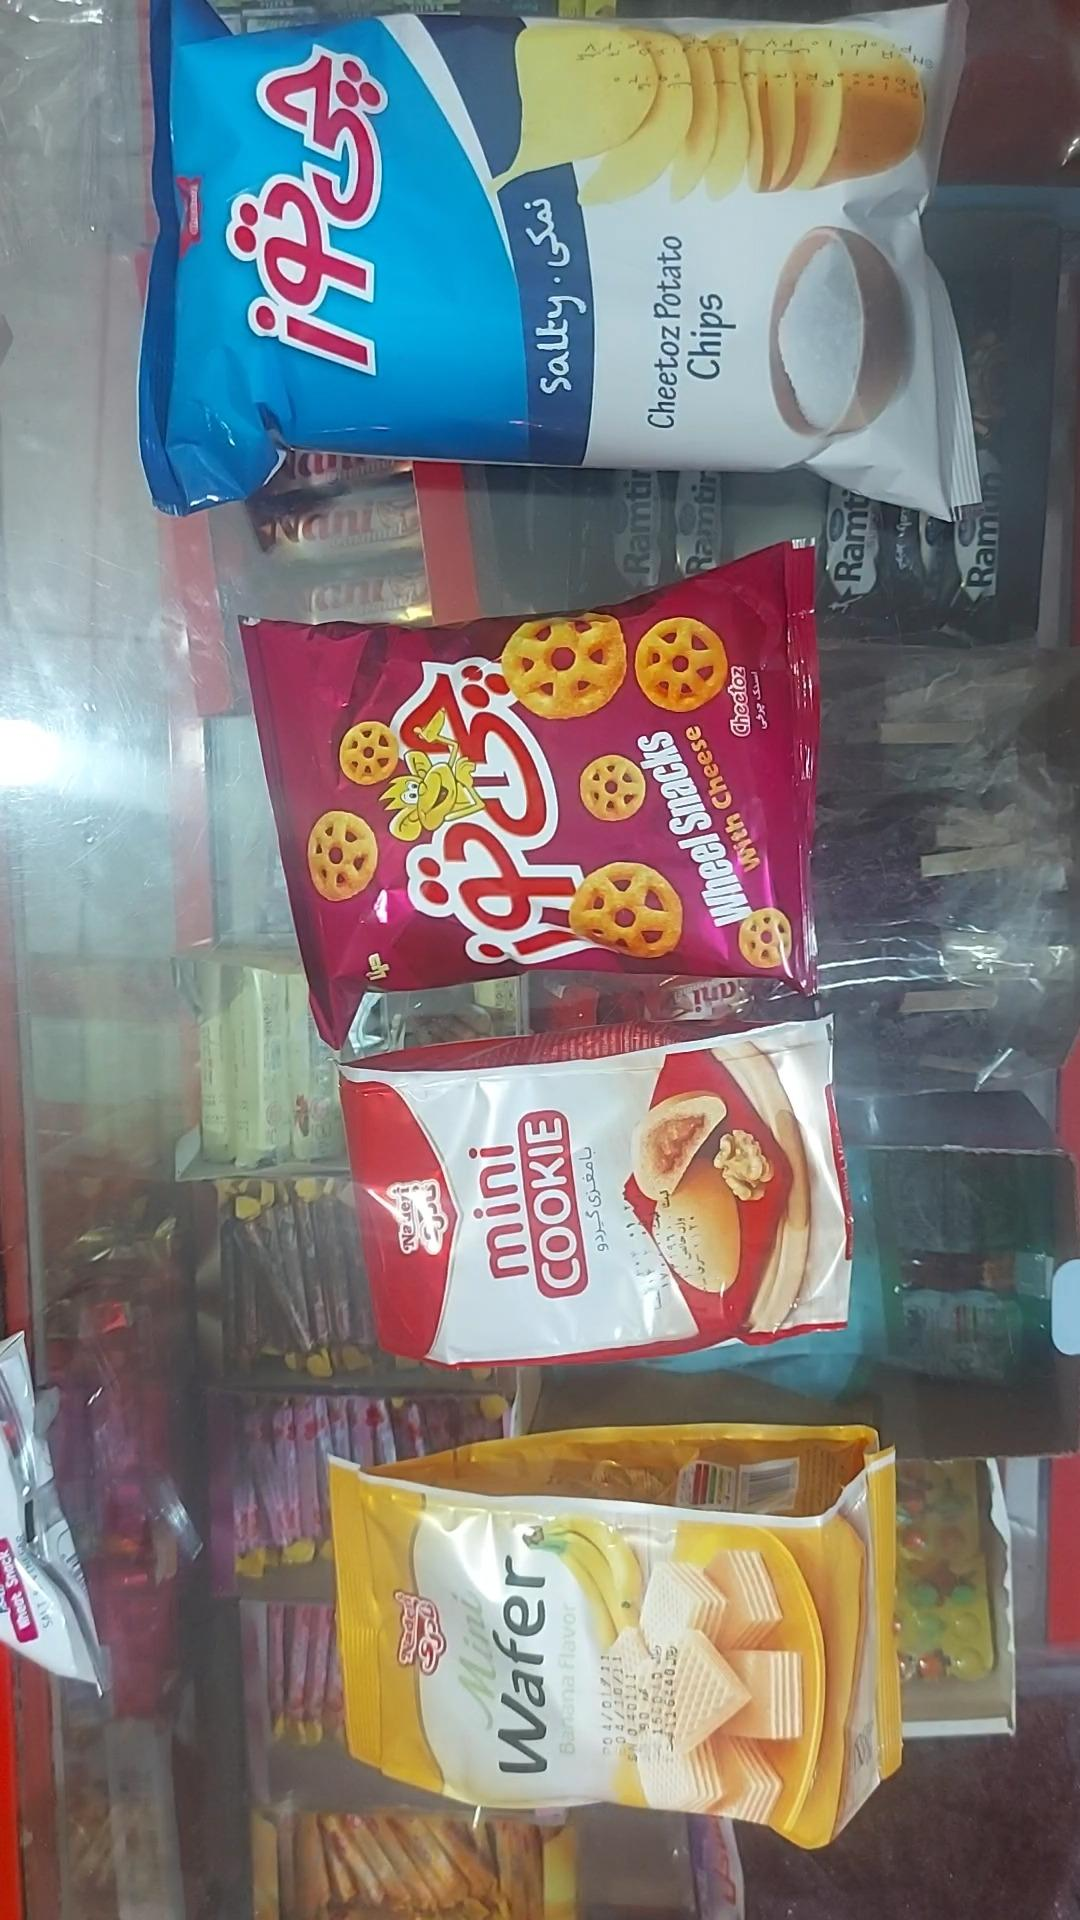Cheetoz salty chips: (137, 0, 982, 522)
Cheetoz wheelsnack: (237, 541, 822, 1054)
Naderi mini cookie: (336, 1017, 855, 1371)
Naderi mini wafer: (324, 1424, 905, 1851)
